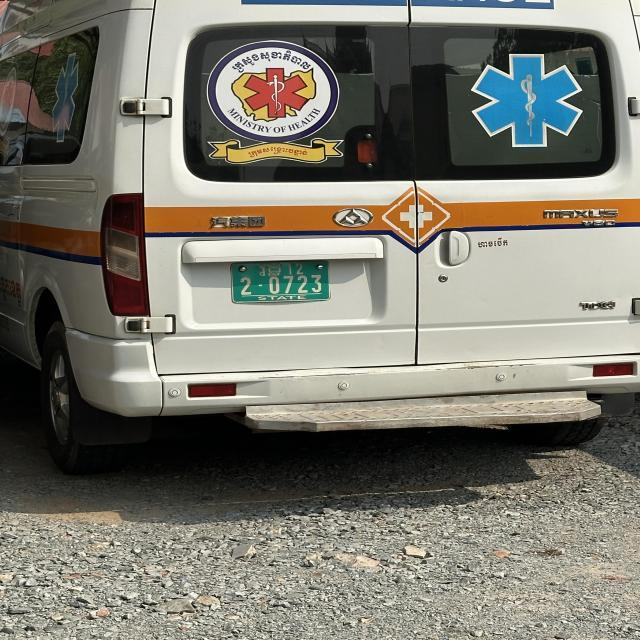State: (259, 262, 282, 276)
